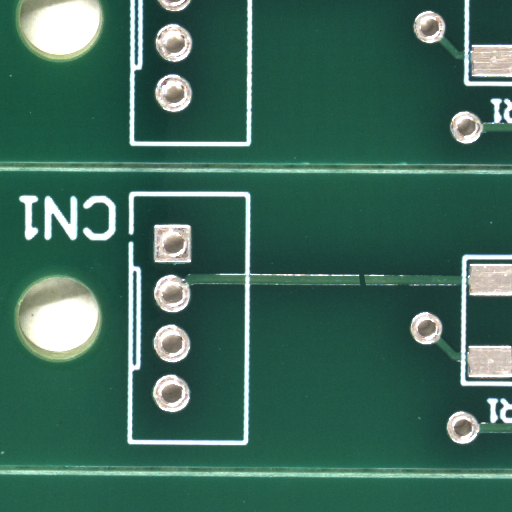Open_circuit: (362, 280, 372, 295)
